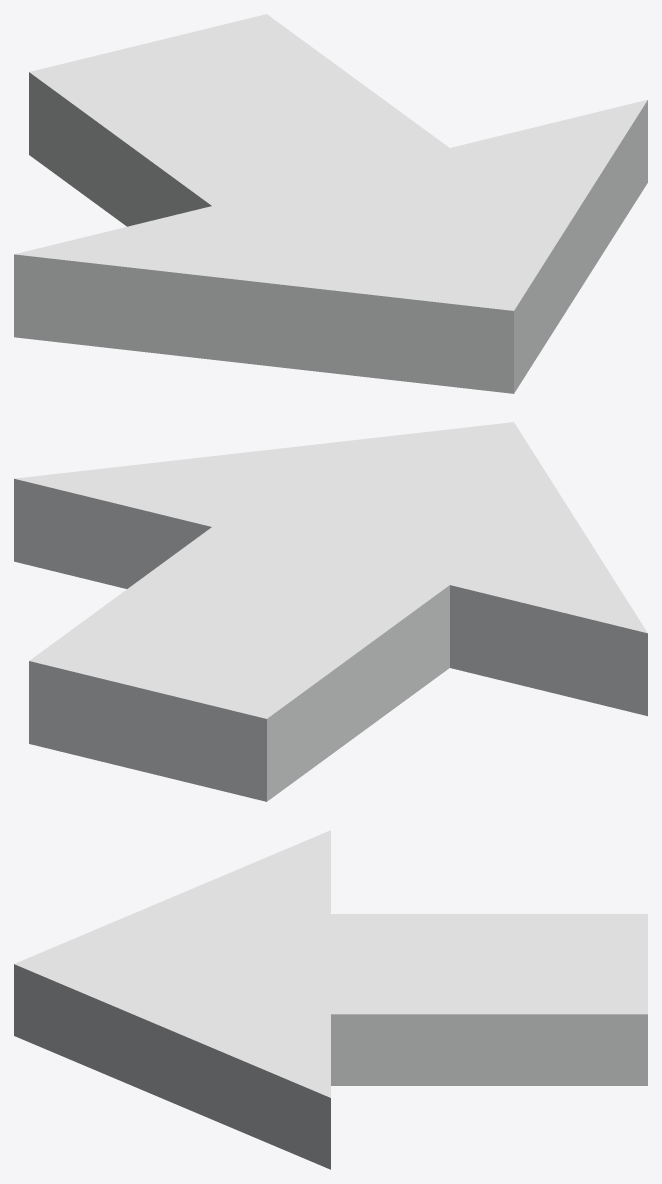
Rendered from White Directional Arrow.glb.
3 views of the same model, one above another, from view 1: azimuth 30°, elevation 25°; view 2: azimuth 150°, elevation 25°; view 3: azimuth 270°, elevation 25° (orthographic). The views are drawn at different scales.
Parts seen in each view (by area): view 1: cube; view 2: cube; view 3: cube.
Boxes of the visible parts, x1,y1,x2,y2 form: cube: (14, 14, 647, 393); cube: (14, 422, 647, 801); cube: (14, 830, 647, 1169).
Bounding box in the file's own units: 1 × 0.125 × 1.
Materials: 1 (1 with a texture image).
